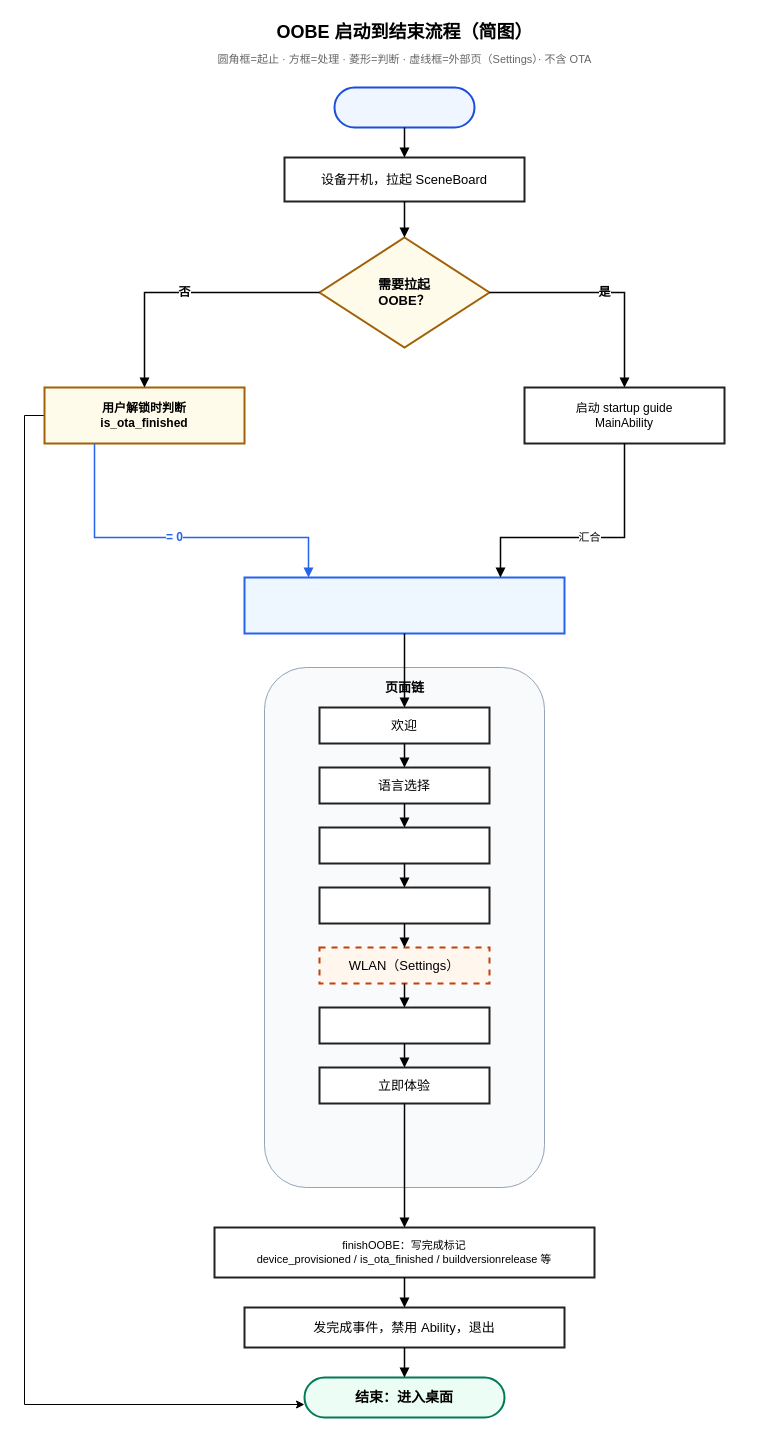
The diagram is 762 pixels wide and 1435 high, and some of its shapes have lost their labels. The centre of each missing label's shape, as x and y in pixels:
"地区选择" belongs at [404,845].
"基础服务" belongs at [404,905].
"增强服务" belongs at [404,1025].
"开始" belongs at [404,107].
"首次开机 / 恢复出厂 同一页面链（「是」与 is_ota_finished=0 汇合）" belongs at [404,605].
